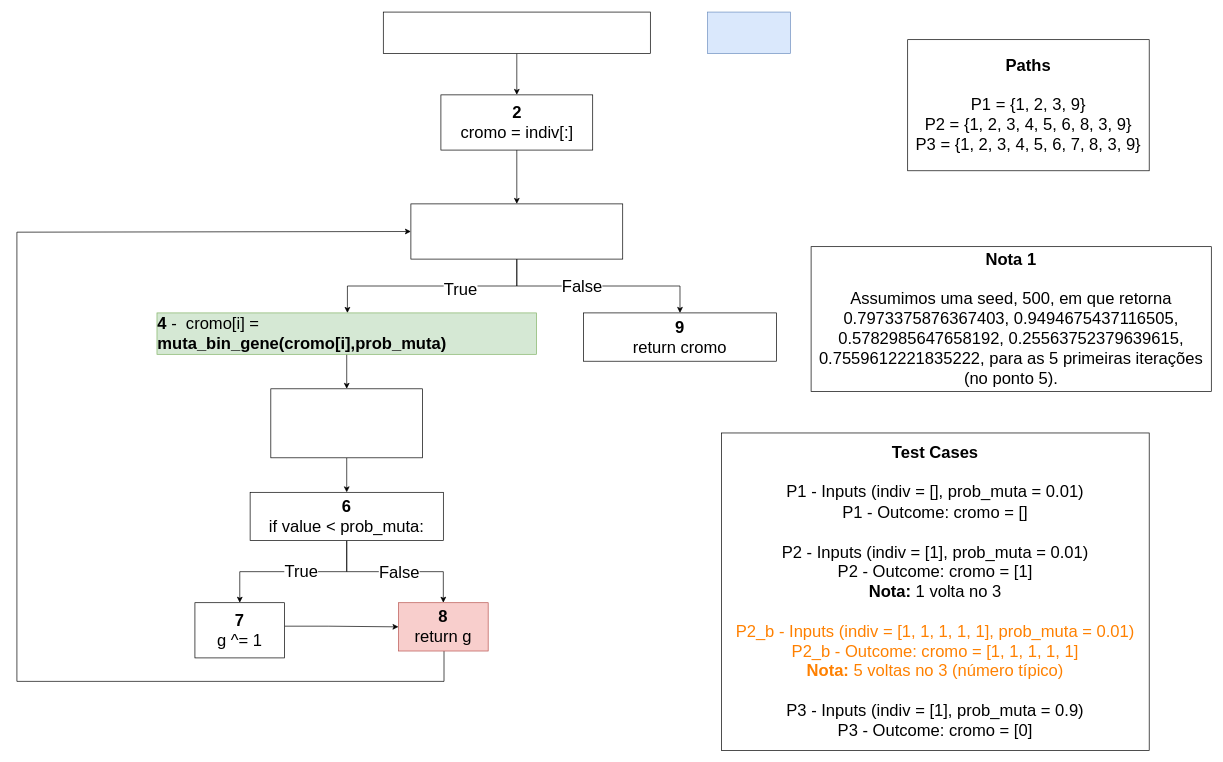
Some shapes in this 1223 by 762 pixel diagram are drawn without their labels. Here are the shapes that lost their labels. From the top down, the centre of each, then its label:
At pixel 516 32: "1 - def muta_bin(indiv,prob_muta):".
At pixel 748 32: "Vg = 3".
At pixel 516 231: "3 for i in range(len(indiv)):".
At pixel 346 423: "5 g = gene value = random()".
